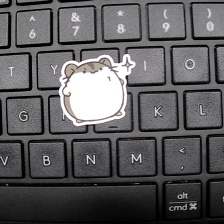mouse: (58, 54, 134, 128)
